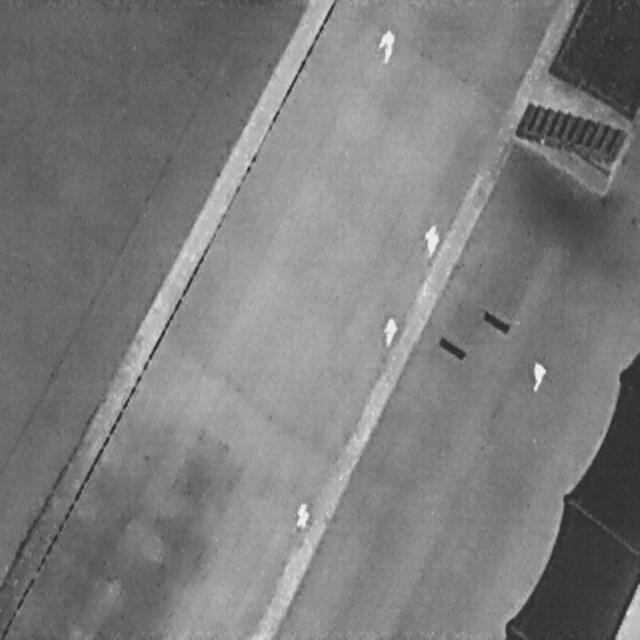Person: (374, 24, 397, 66), (421, 216, 441, 260), (529, 356, 546, 394), (382, 312, 399, 348), (294, 498, 309, 532)
